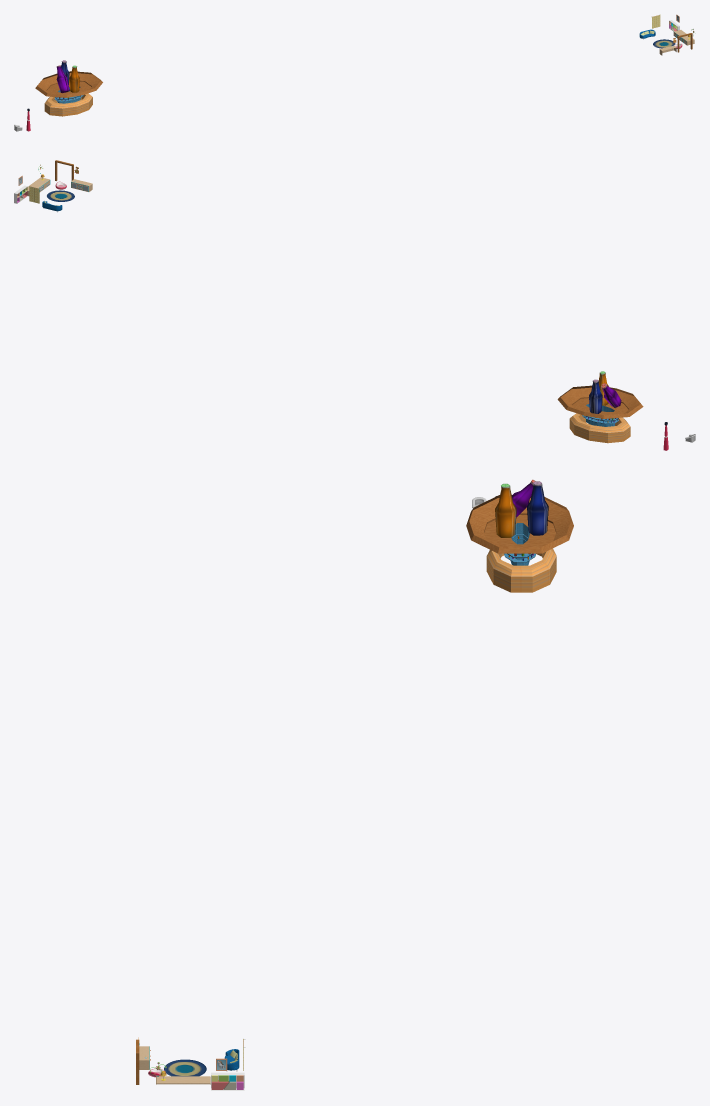
The model's file is color and sofa.fbx.
3 renders of one model, top to bottom at view 1: azimuth 30°, elevation 25°; view 2: azimuth 150°, elevation 25°; view 3: azimuth 270°, elevation 25°, orthographic. The views are drawn at different scales.
Parts seen in each view (by area): view 1: polySurface9670; view 2: polySurface9670; view 3: polySurface9670.
Boxes of the visible parts, bbox=[...] form: polySurface9670: bbox=[35, 60, 102, 116]; polySurface9670: bbox=[557, 371, 643, 443]; polySurface9670: bbox=[466, 479, 573, 592].
Bounding box in the file's own units: 1192 × 96.65 × 378.
